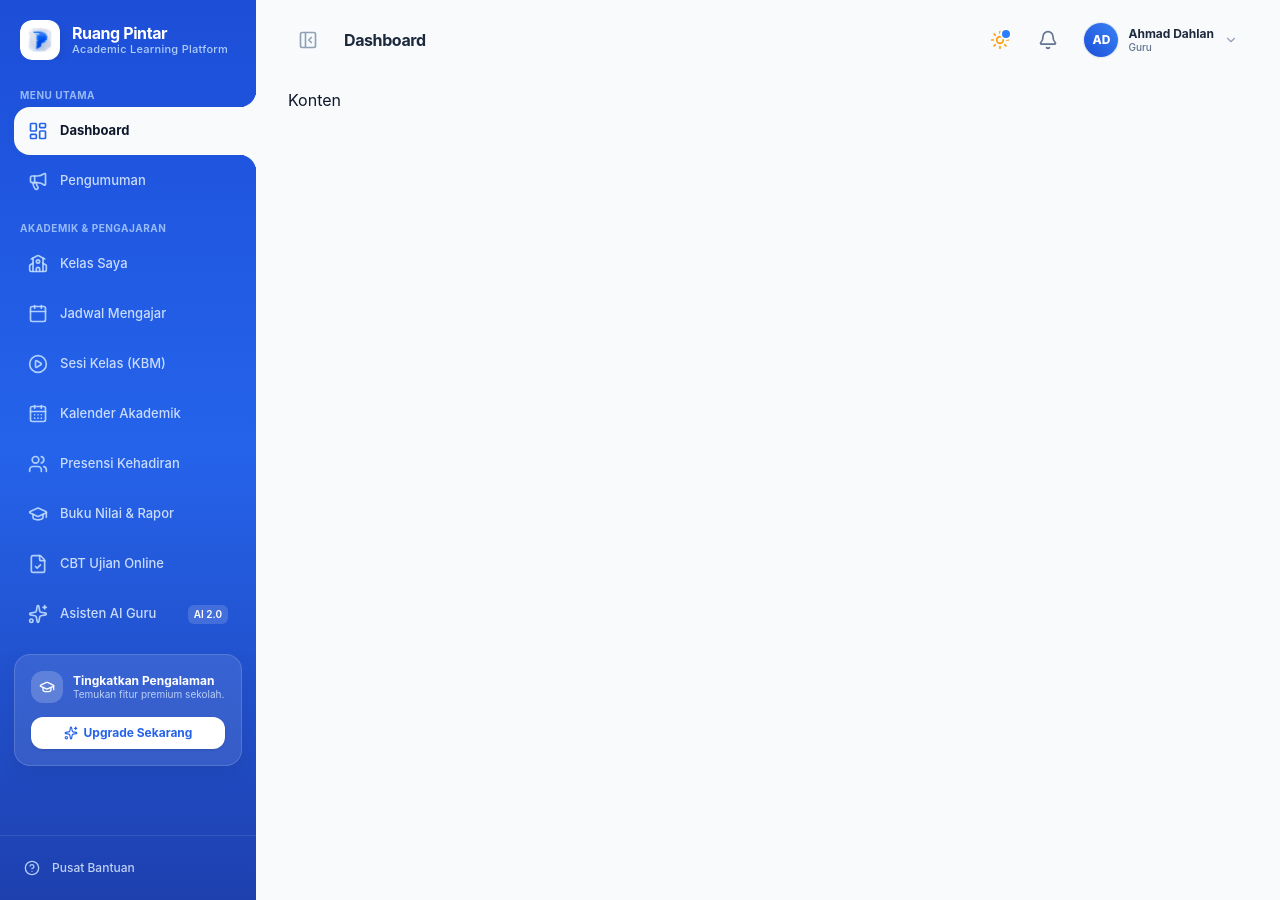
AcademicShell Component (Phase 05) › opens user menu dropdown on click and displays identity
Click the button with aria-label "Menu Pengguna" at coordinates (1162, 40), box [1076, 16, 1248, 62]
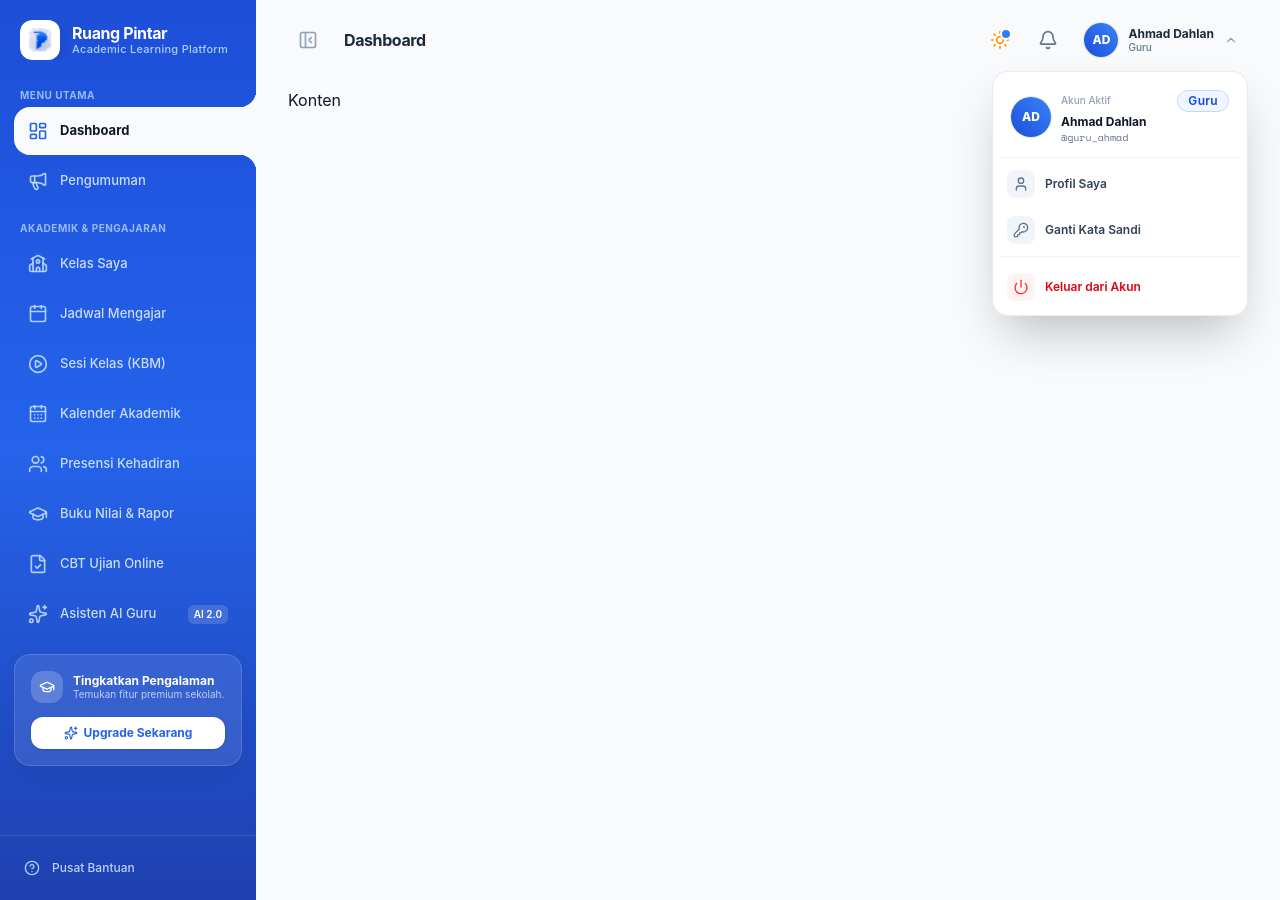
Expected: the text "Akun Aktif" is shown, [1061, 93, 1111, 108]
Expected: the text "Ganti Kata Sandi" is shown, [1045, 222, 1141, 238]
Expected: the text "Keluar dari Akun" is shown, [1045, 278, 1141, 294]
